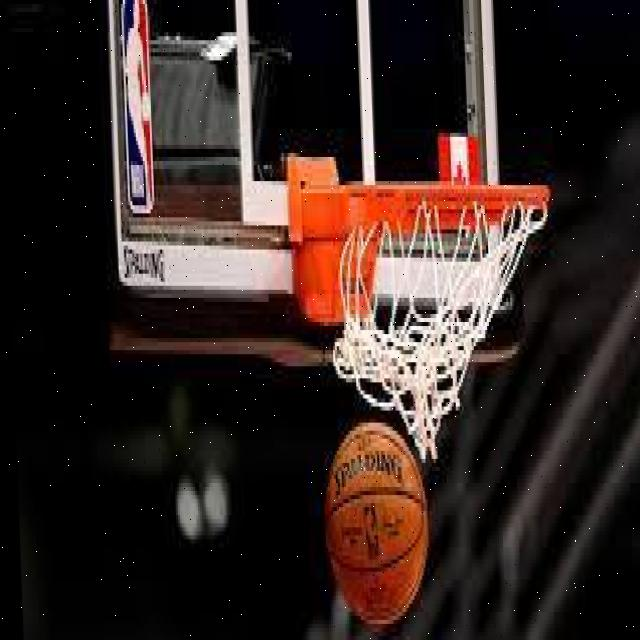basketball: (323, 423, 429, 624)
hoop: (324, 181, 558, 459)
